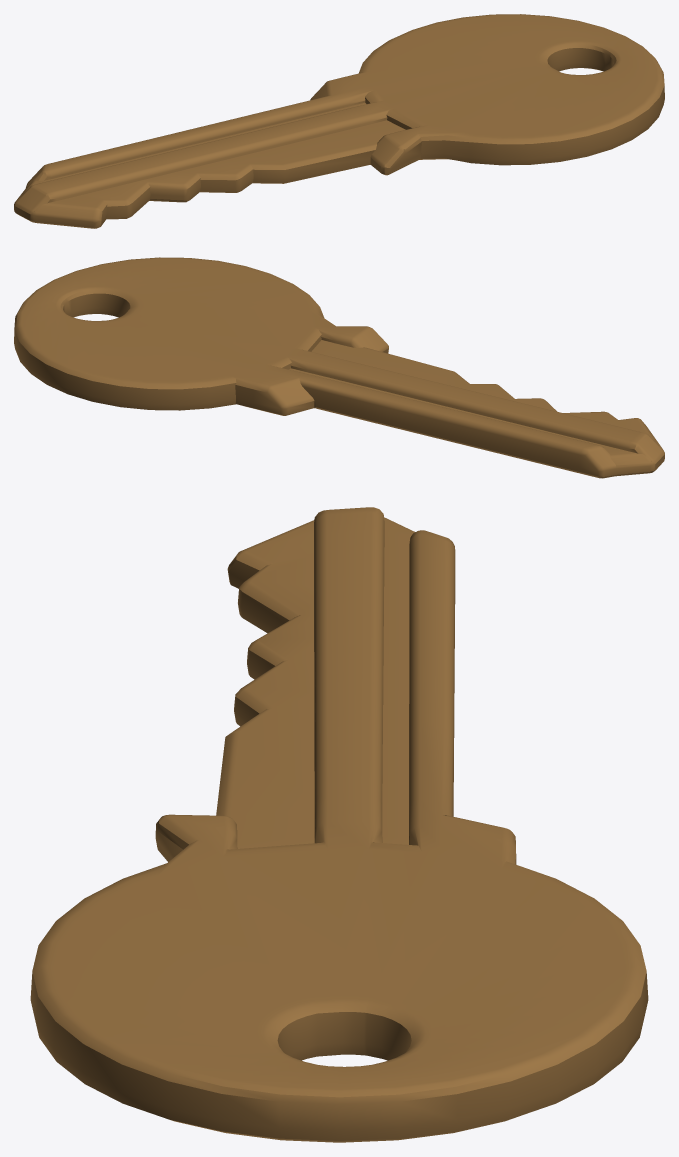
Rendered from Bronze_key_v1.fbx.
The picture shows the model from 3 angles, top to bottom: view 1: azimuth 30°, elevation 25°; view 2: azimuth 150°, elevation 25°; view 3: azimuth 270°, elevation 25°; orthographic projection. The views are drawn at different scales.
Parts seen in each view (by area): view 1: Circle; view 2: Circle; view 3: Circle.
Part boxes in pixels (box(x1,y1,x2,y2)): Circle: box(14, 14, 664, 228); Circle: box(14, 257, 664, 478); Circle: box(30, 507, 648, 1142).
Bounding box in the file's own units: 443 × 17.66 × 191.
